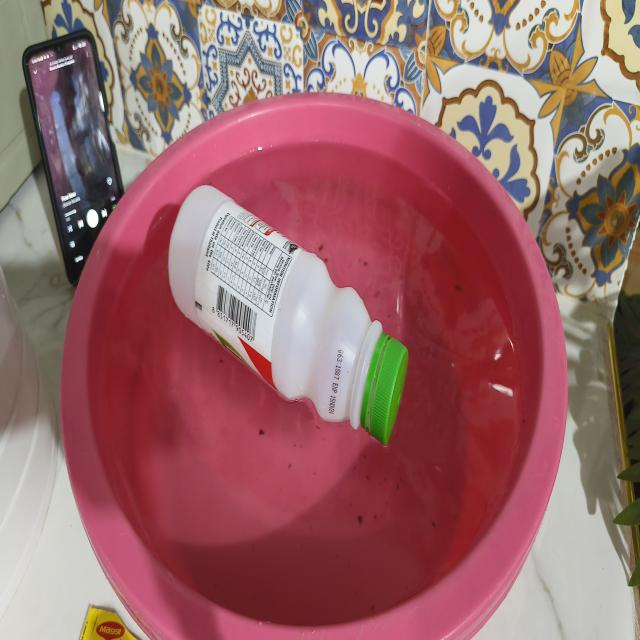Plastic Bottle: (150, 142, 427, 470)
